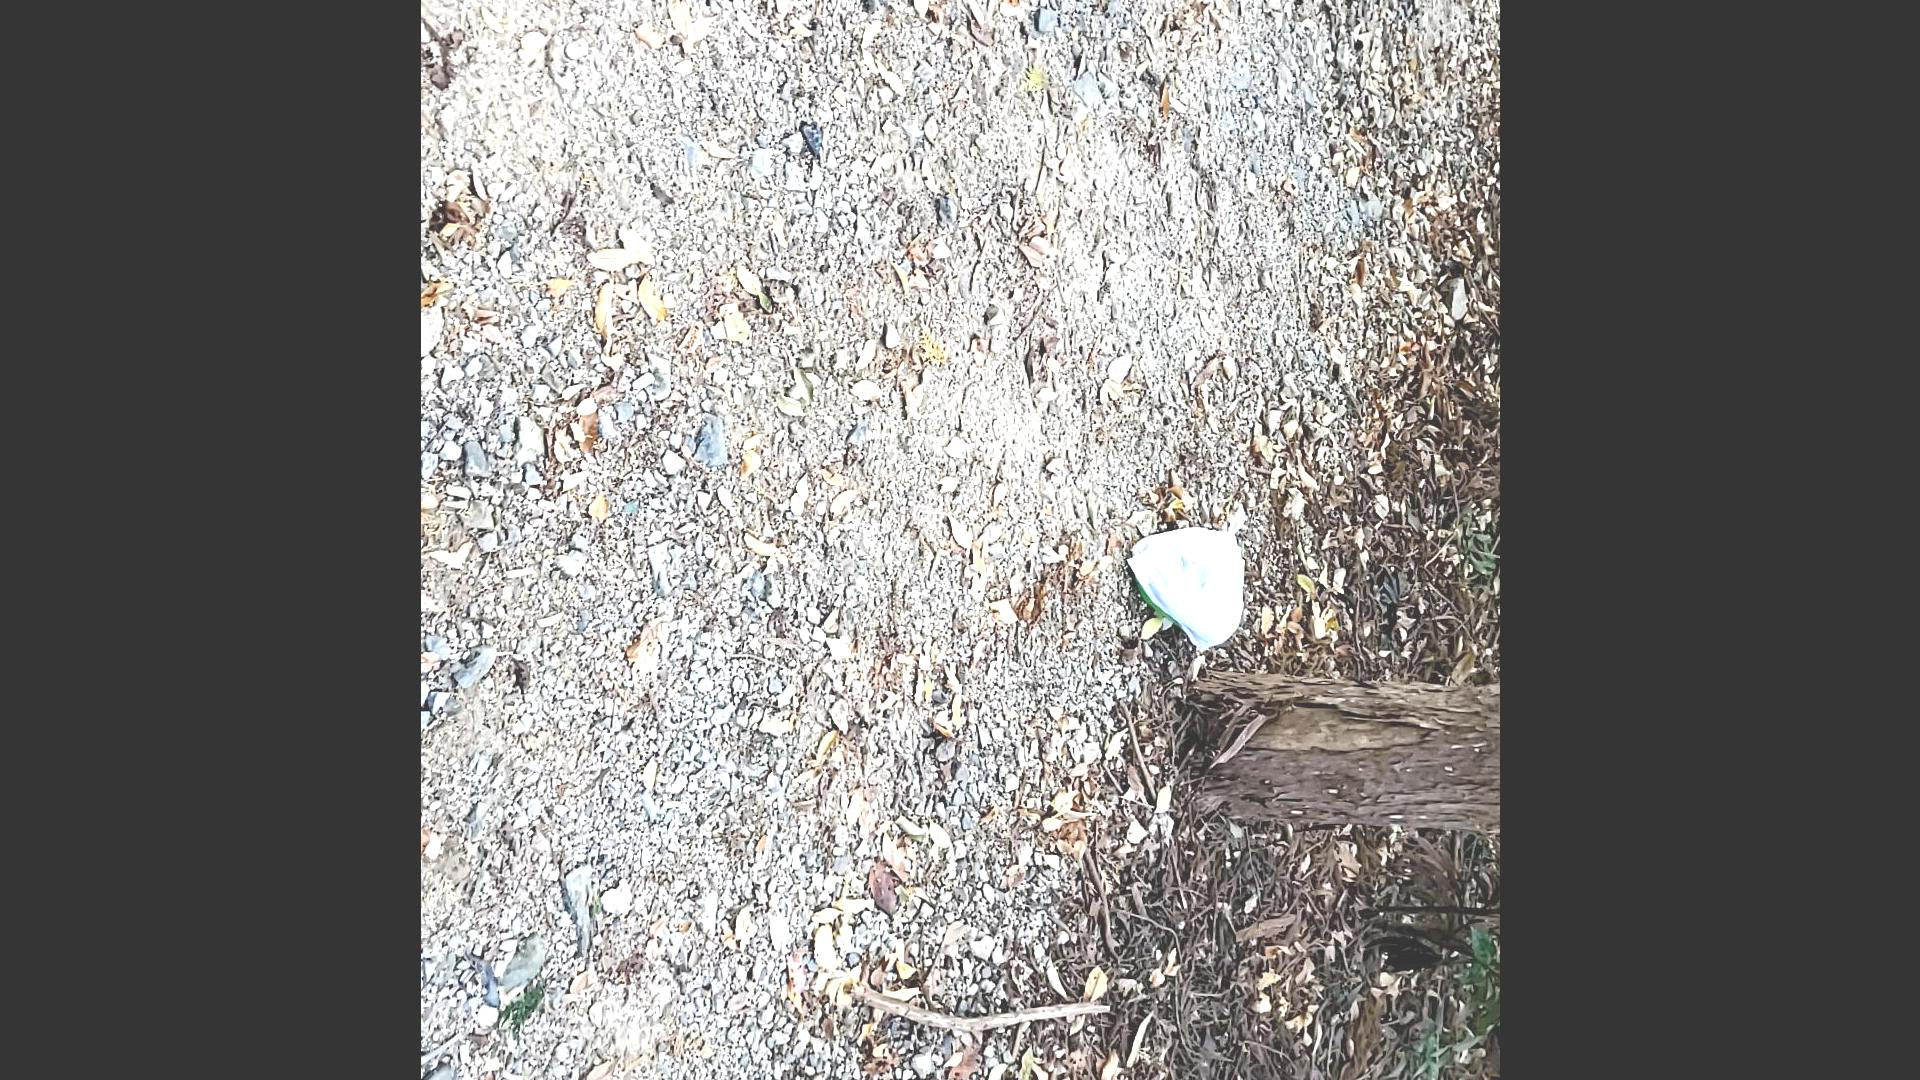white_bag: (1124, 495, 1261, 653)
